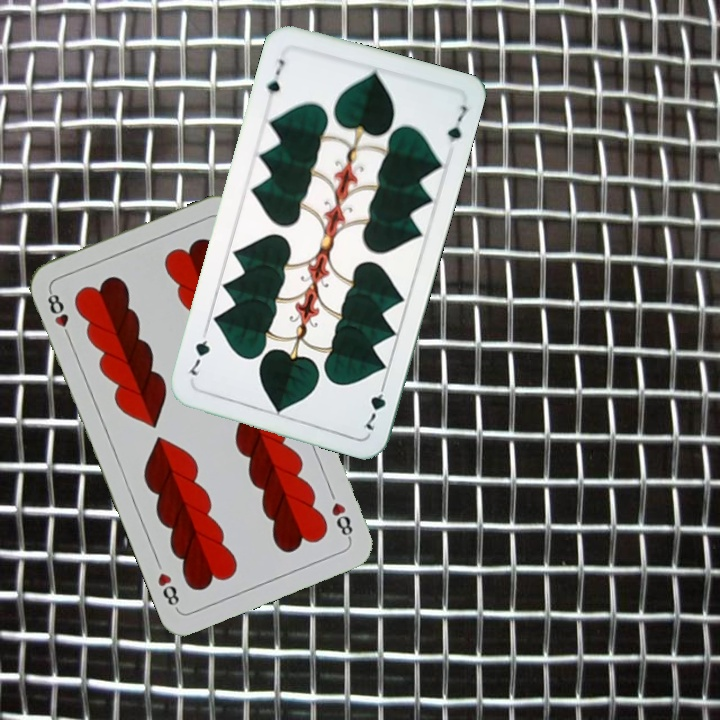G7: (358, 377, 389, 433), (263, 55, 288, 106)
H8: (43, 286, 74, 343), (327, 498, 356, 542)
